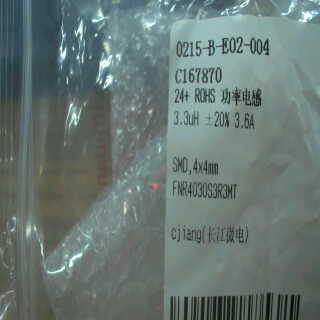3.3uH: (172, 108, 201, 133)
